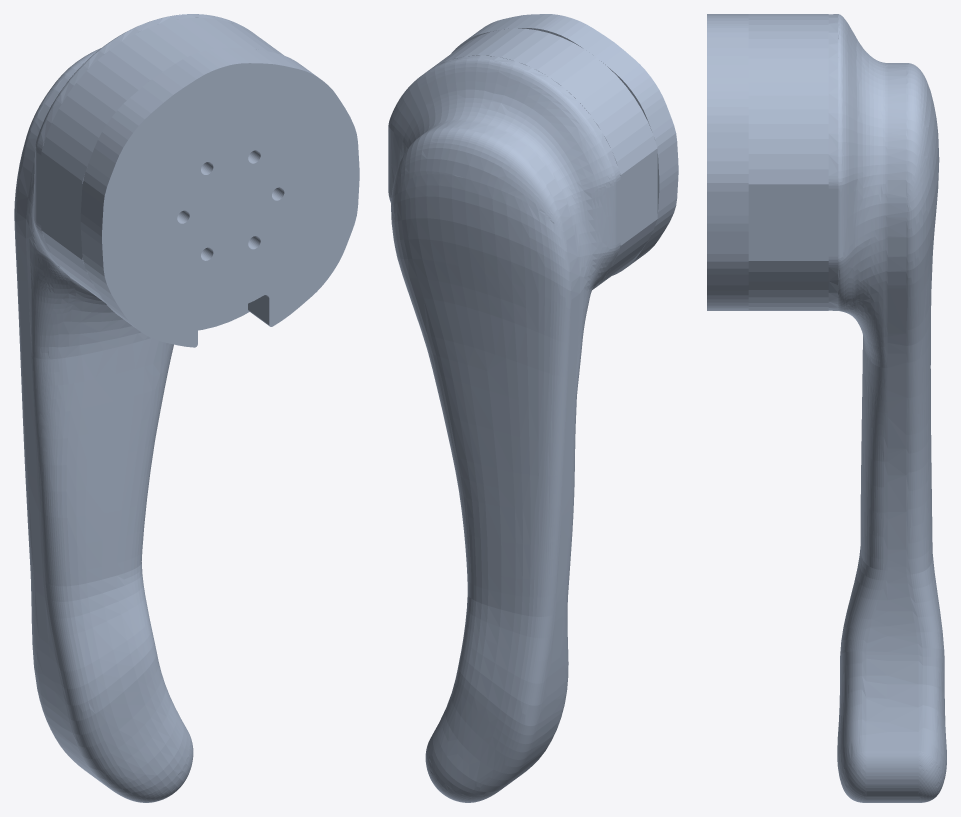
File: thigh.dae
3 renders of one model, left to right at view 1: azimuth 30°, elevation 25°; view 2: azimuth 150°, elevation 25°; view 3: azimuth 270°, elevation 25°, orthographic. The views are drawn at different scales.
Visible parts, largest first — view 1: 大腿; view 2: 大腿; view 3: 大腿.
Boxes of the visible parts, box(x1,y1,x2,y2) form: 大腿: box(14, 14, 359, 802); 大腿: box(388, 14, 678, 802); 大腿: box(707, 14, 946, 802).
Bounding box in the file's own units: 0.094 × 0.0779 × 0.277.
